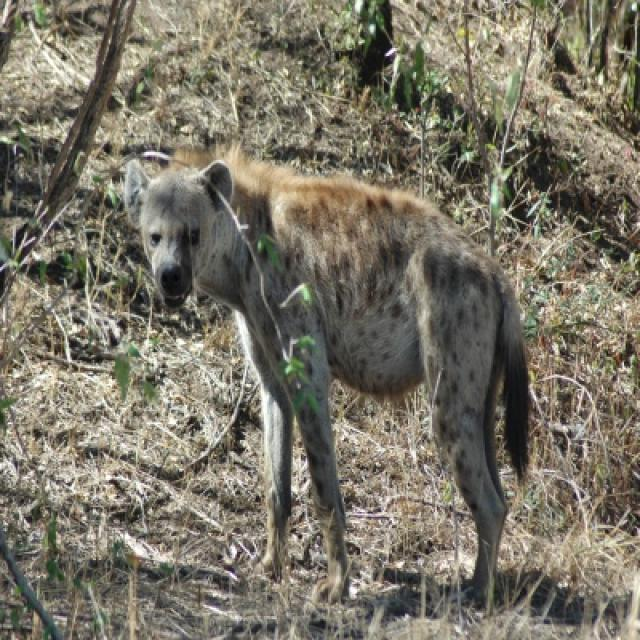hyena: (120, 146, 531, 610)
